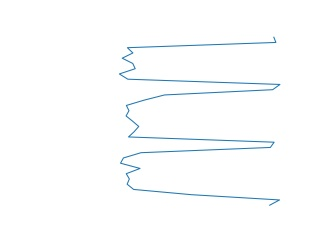majorRiverChannelBar: (116, 37, 283, 208)
